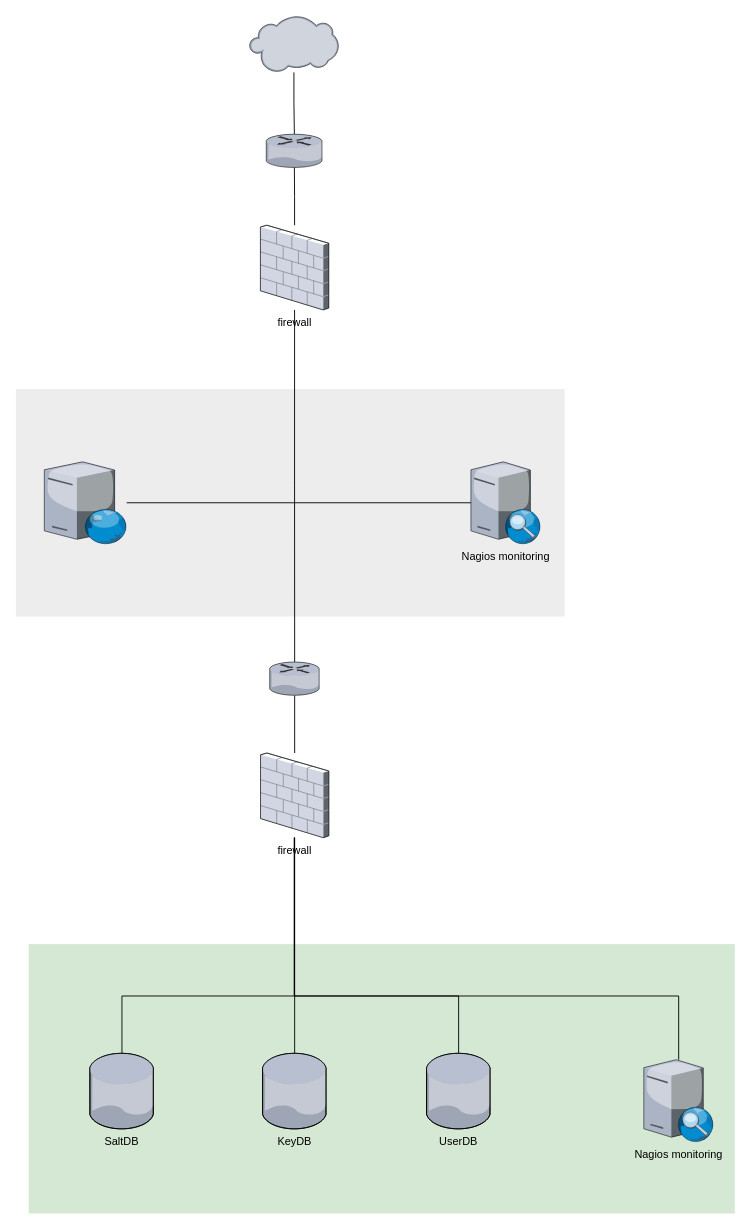
Some shapes in this 750 by 1229 pixel diagram are drawn without their labels. Each missing label, with the box of its shape:
Authentication Network (DMZ): (15, 389, 564, 616)
Authentication Server: (44, 461, 126, 543)
Database Network: (28, 944, 734, 1213)
